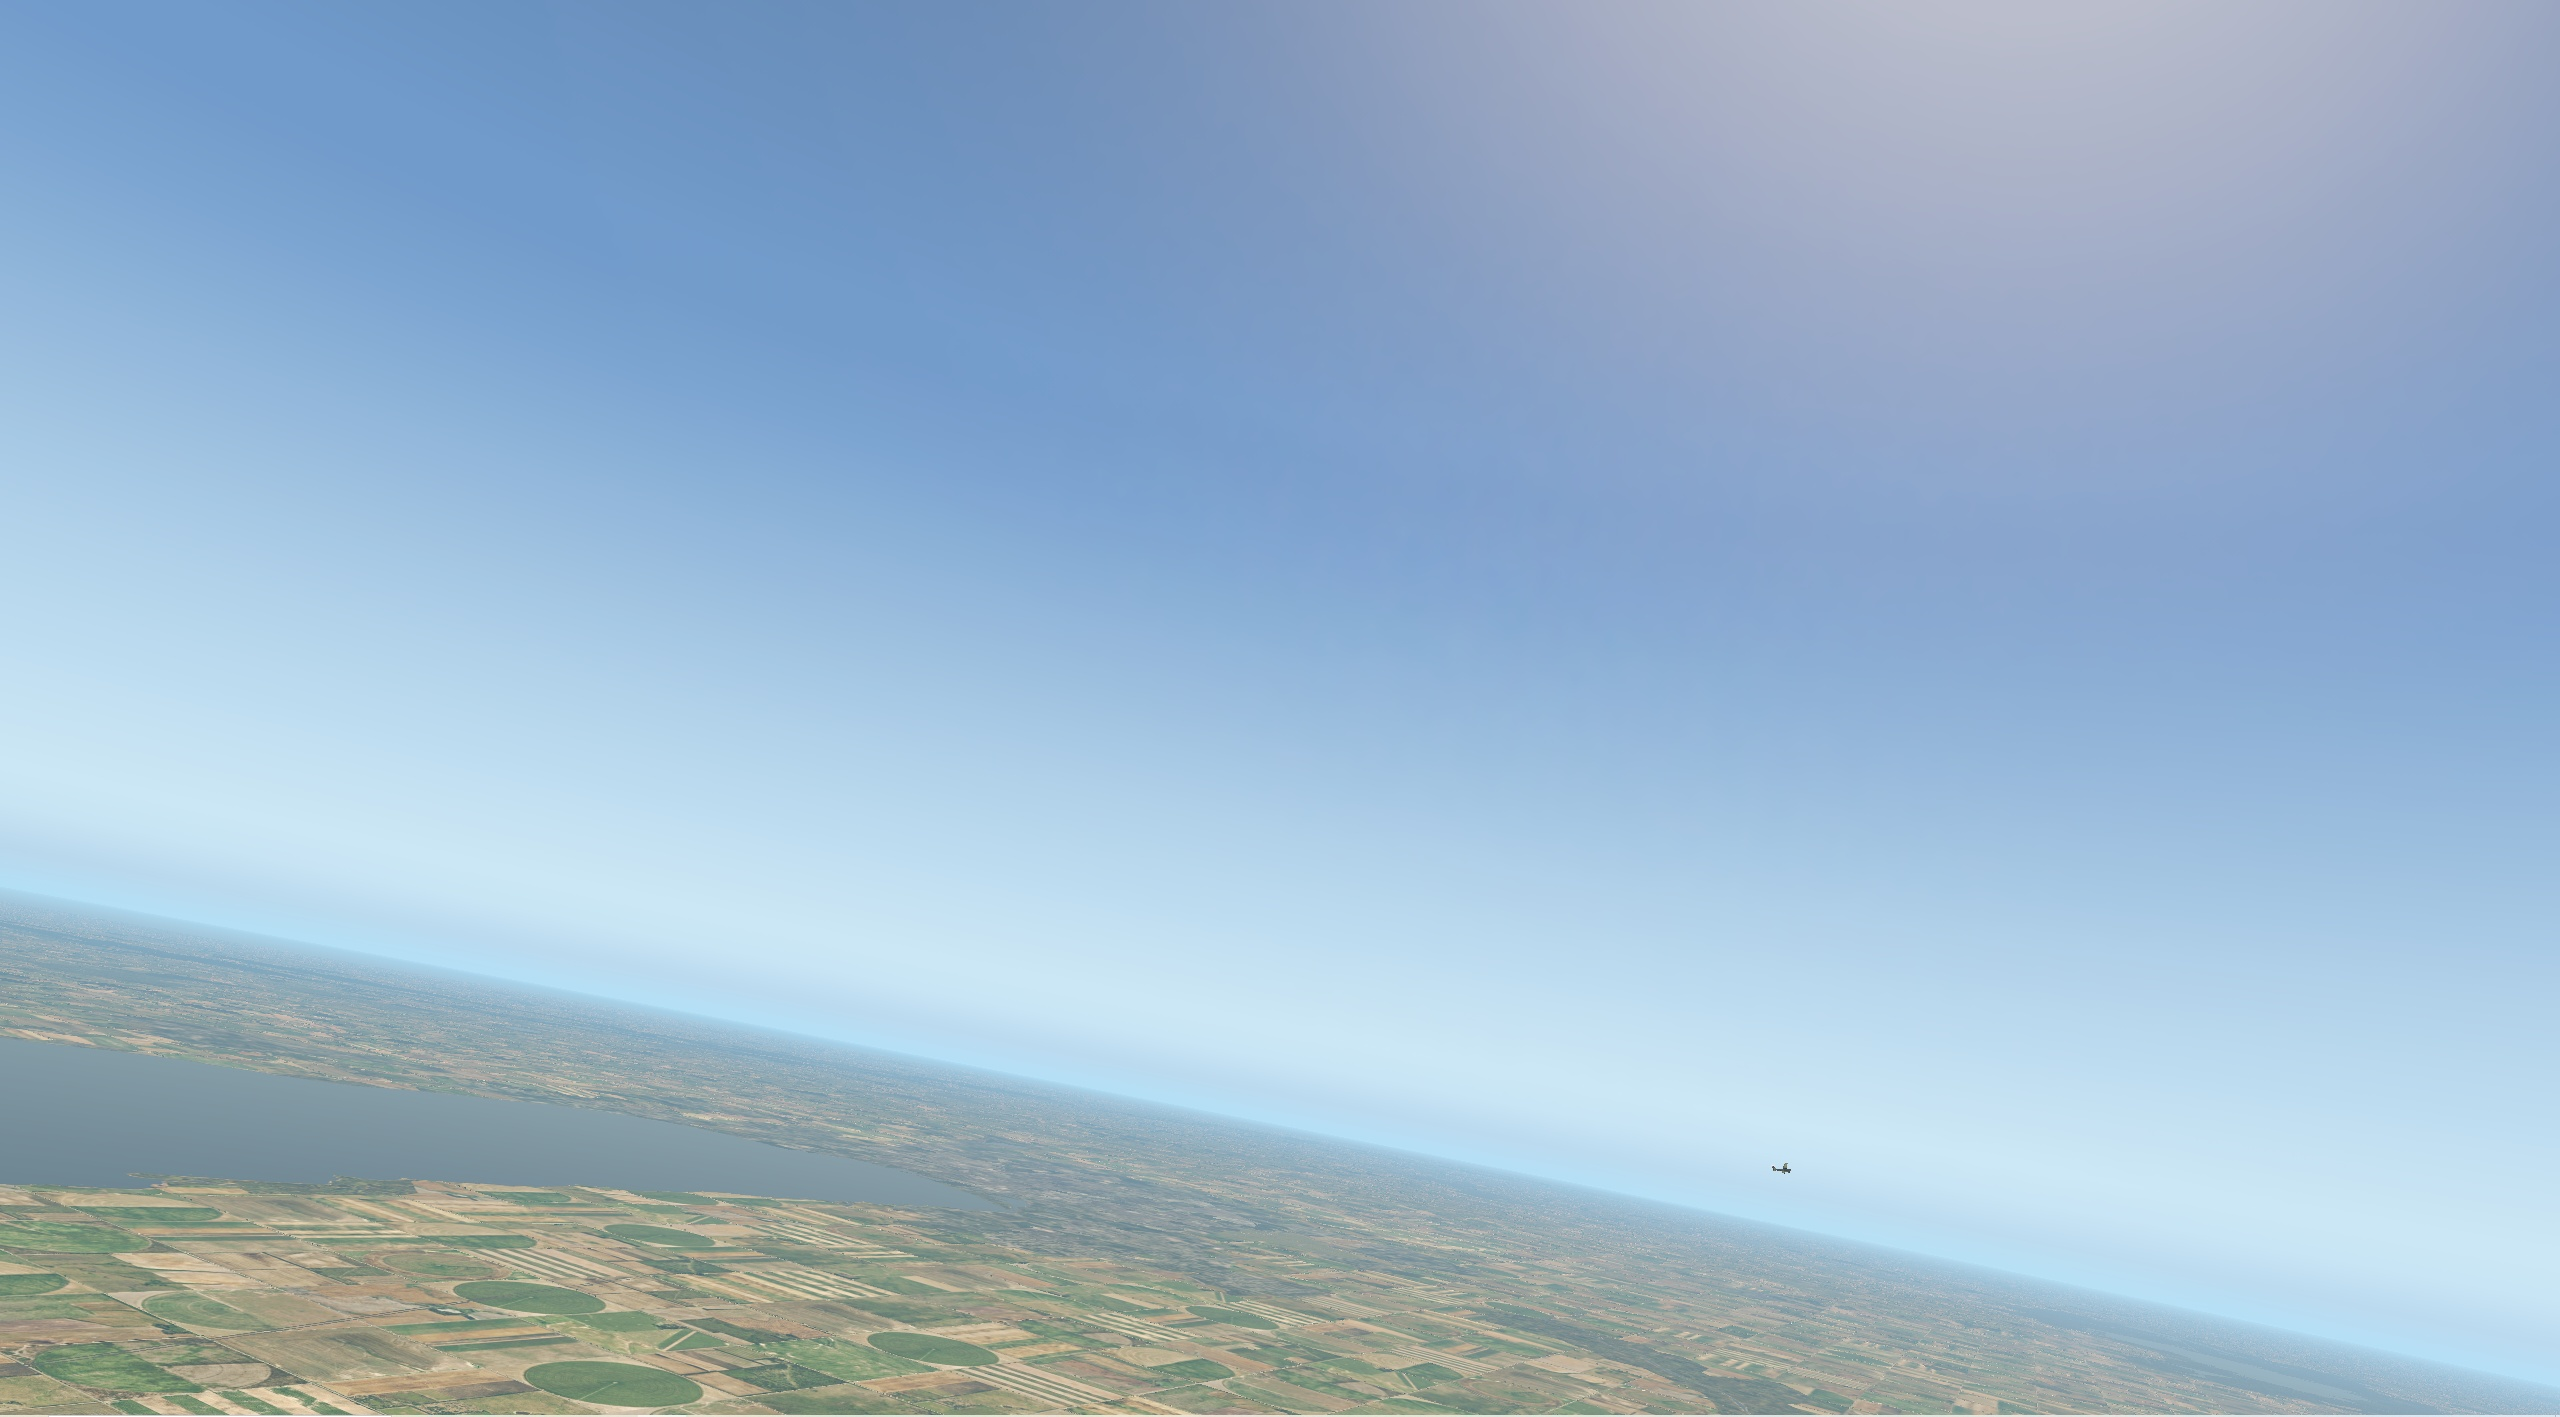aircraft: (1771, 1164, 1799, 1174)
